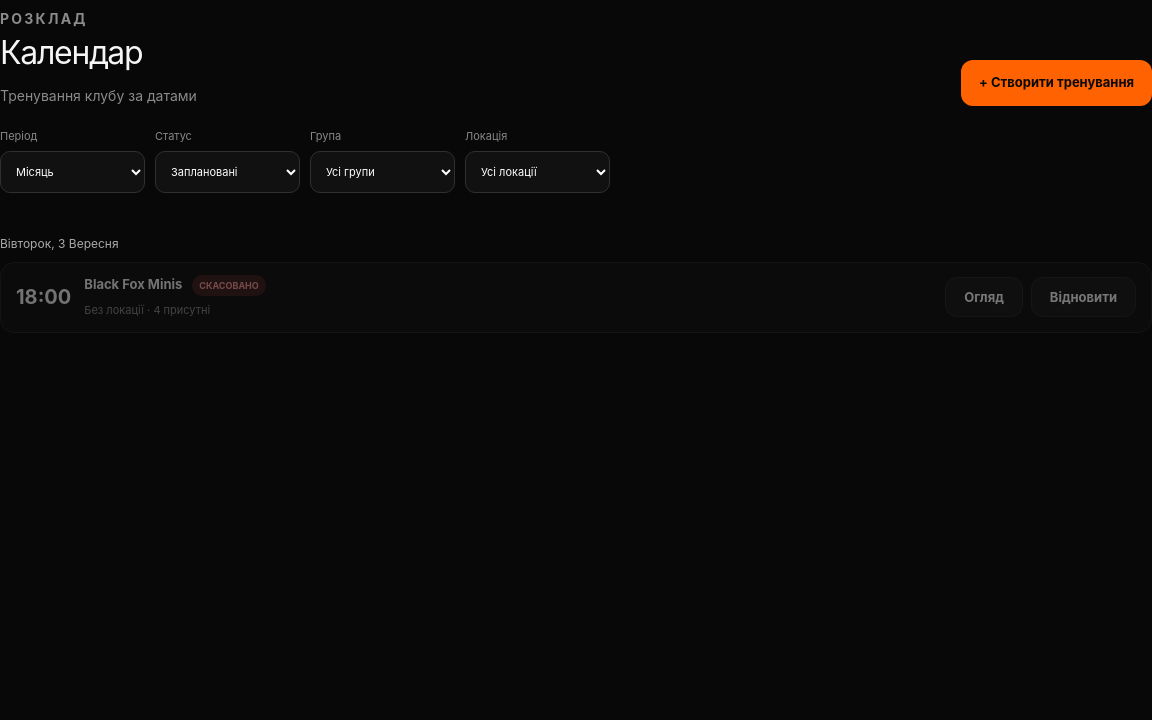
Test: CalendarManager › restores a cancelled training after confirmation
Click the button "Відновити" at (1083, 297), box [1031, 277, 1136, 317]
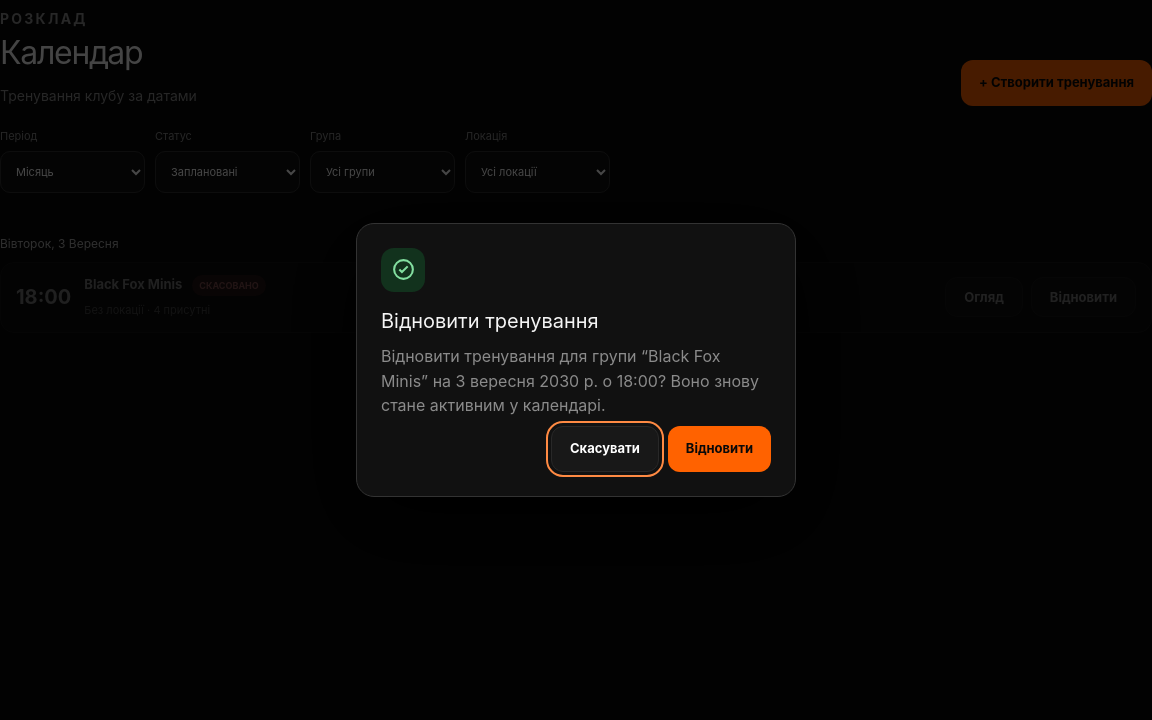
Check: the dialog shows "Black Fox Minis", box [381, 346, 759, 415]
Check: the dialog shows "3 вересня 2030", box [381, 346, 759, 415]
Click the button "Відновити" at (719, 449), box [668, 426, 771, 472]
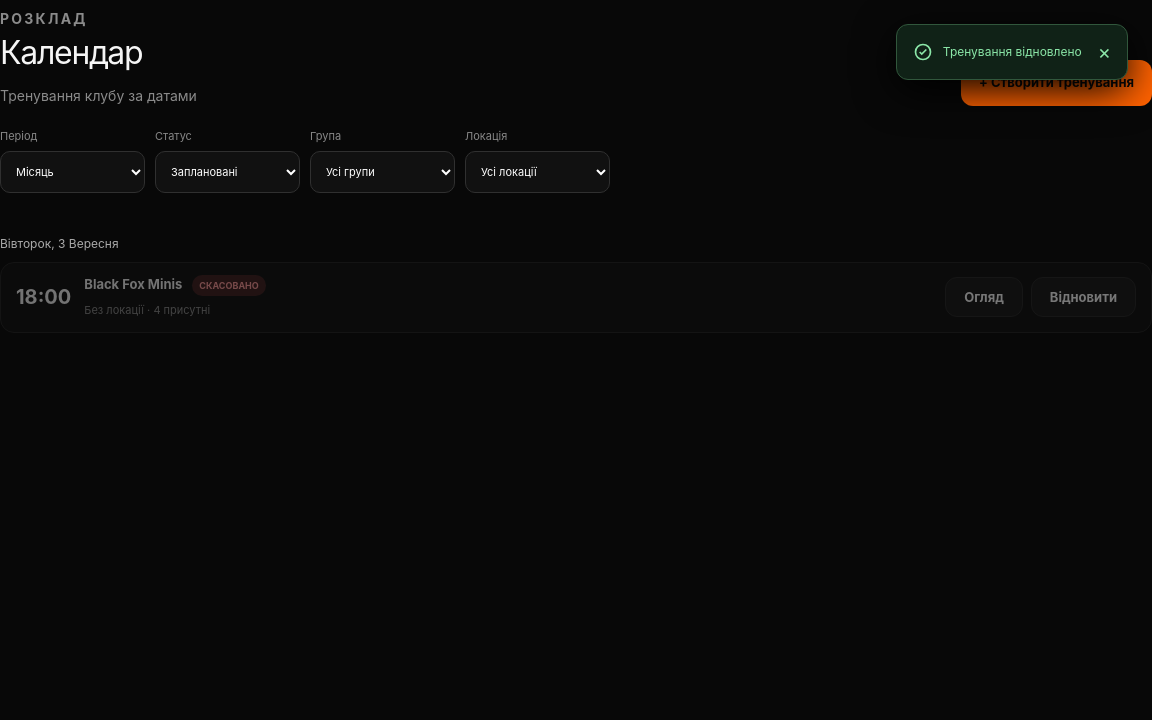
Check: the message shows "Тренування відновлено", box [943, 44, 1082, 59]
